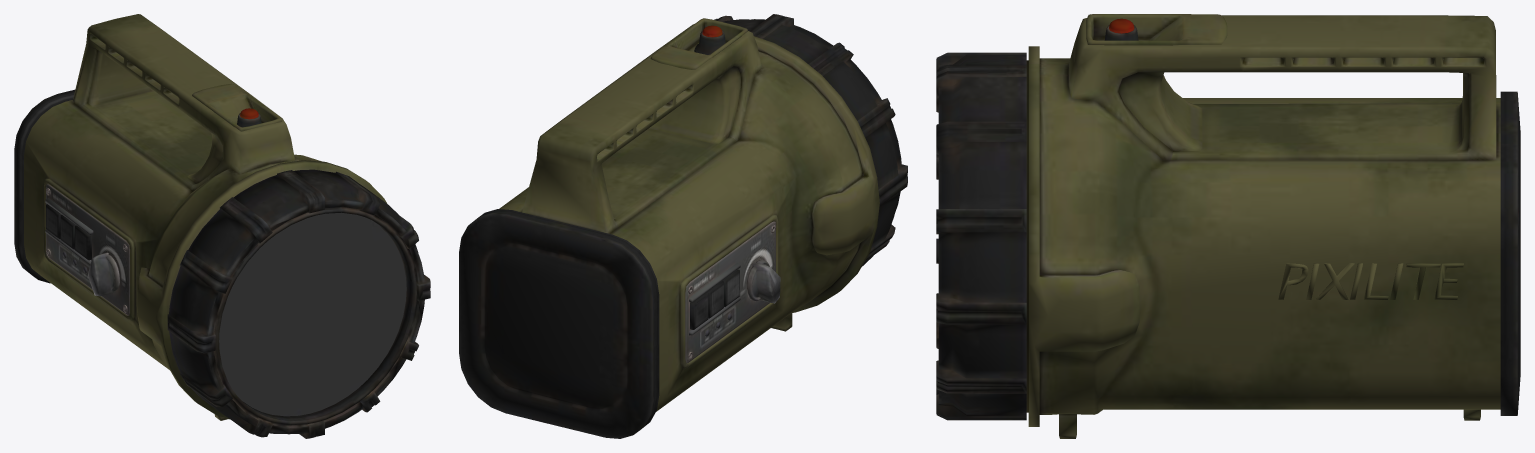
Rendered from portable_searchlight.glb.
The picture shows the model from 3 angles, left to right: view 1: azimuth 30°, elevation 25°; view 2: azimuth 150°, elevation 25°; view 3: azimuth 270°, elevation 25°; orthographic projection. The views are drawn at different scales.
Visible parts, largest first — view 1: portable_searchlight; view 2: portable_searchlight; view 3: portable_searchlight.
Boxes of the visible parts, bbox=[...] form: portable_searchlight: bbox=[14, 14, 430, 438]; portable_searchlight: bbox=[459, 14, 907, 438]; portable_searchlight: bbox=[936, 14, 1520, 438].
Size of the model in its own units: 0.1653 by 0.1853 by 0.2534.
2 materials, 2 textured.
